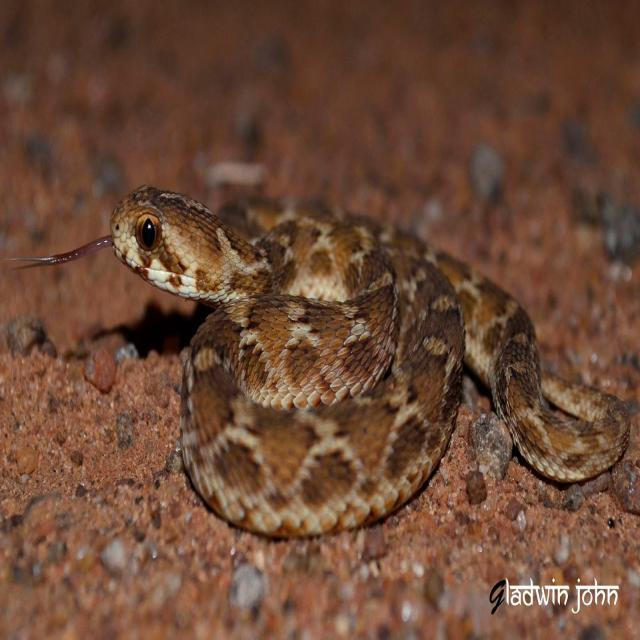Snake: (5, 182, 631, 539)
